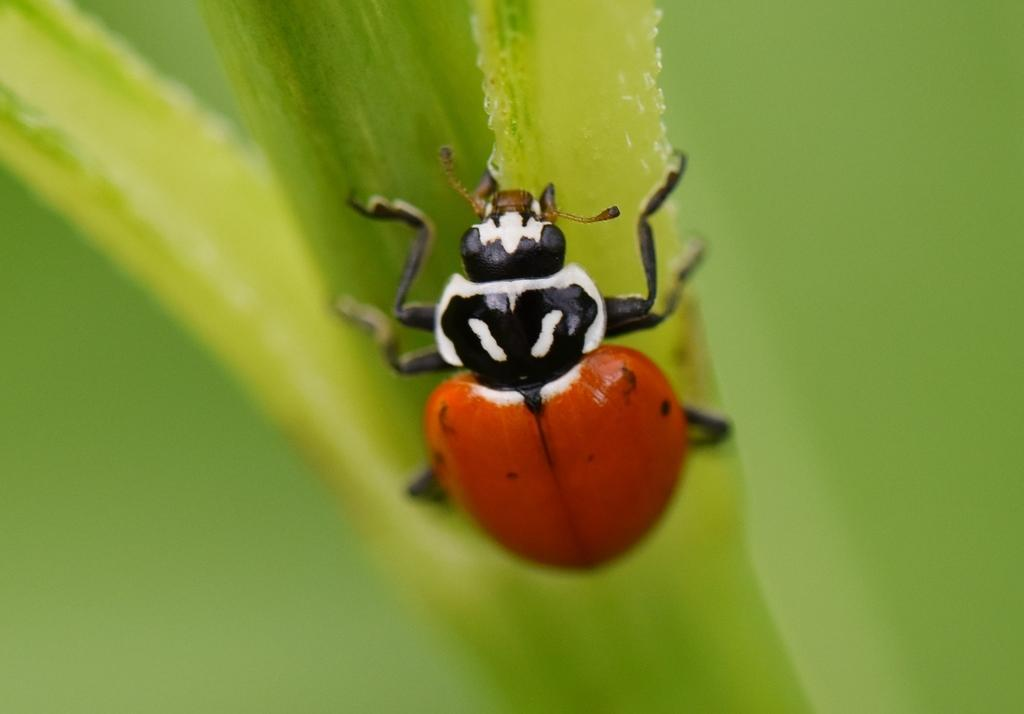ladybug: (341, 143, 739, 573)
